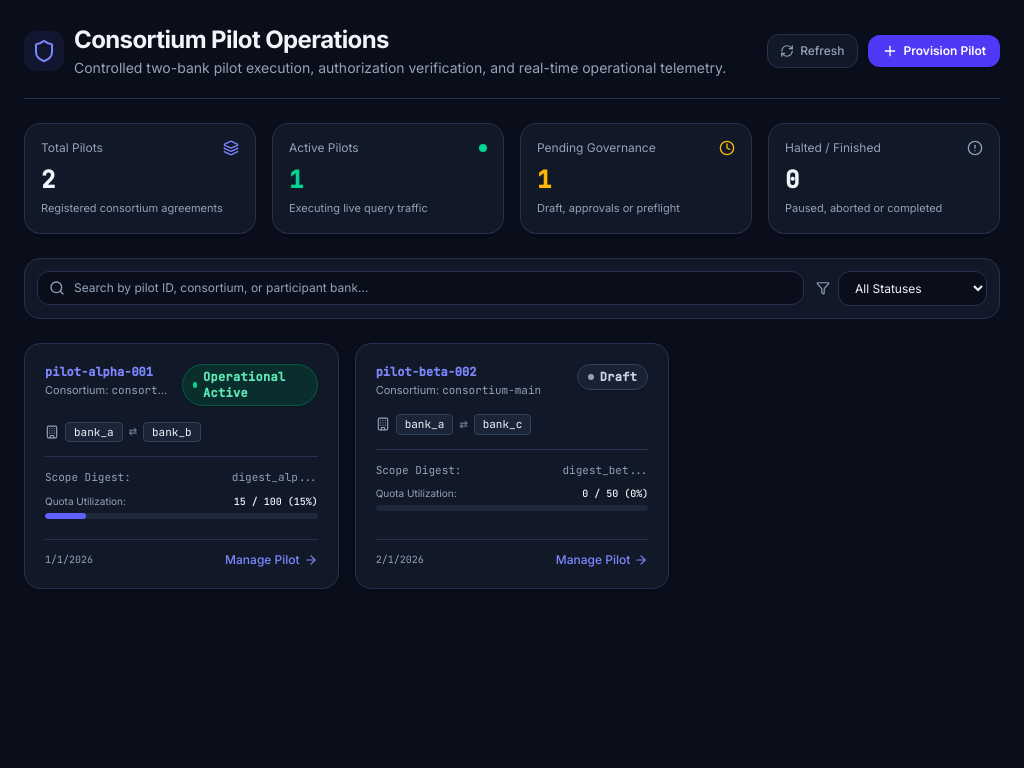
PilotOperationsPage Component › filters pilots by search input
In the field with placeholder "Search by pilot ID, consortium, or participant bank...": (420, 288) [37,271,804,305], type "beta"
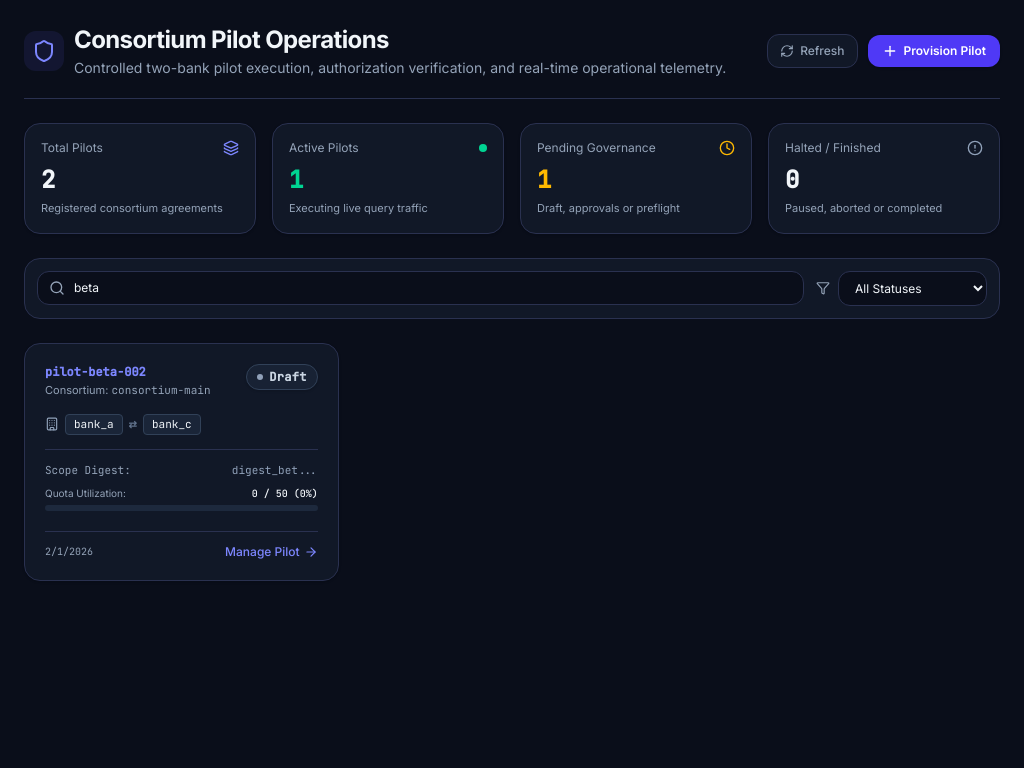
Expected: the text "pilot-beta-002" is shown, [45,364,146,380]
Expected: the text "pilot-alpha-001" is gone
